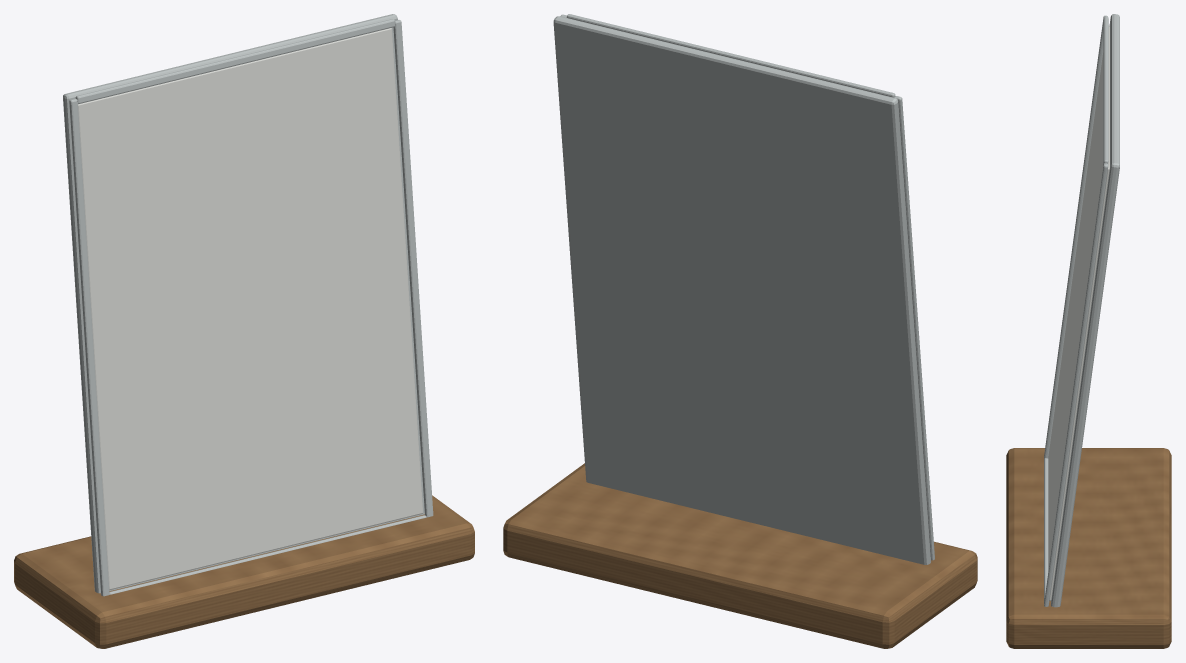
The picture shows the model from 3 angles, left to right: view 1: azimuth 30°, elevation 25°; view 2: azimuth 150°, elevation 25°; view 3: azimuth 270°, elevation 25°; orthographic projection. The views are drawn at different scales.
Parts seen in each view (by area): view 1: REPLACEABLE neutral certificate face, Oak slotted certificate base, Satin metal closed backing; view 2: Satin metal closed backing, Oak slotted certificate base; view 3: Oak slotted certificate base, Satin metal closed backing, REPLACEABLE neutral certificate face.
Boxes of the visible parts, x1,y1,x2,y2 form: REPLACEABLE neutral certificate face: (78,28,422,590); Oak slotted certificate base: (14,495,474,648); Satin metal closed backing: (63,14,433,596); Satin metal closed backing: (553,14,934,564); Oak slotted certificate base: (503,463,977,648); Oak slotted certificate base: (1006,448,1171,648); Satin metal closed backing: (1044,14,1119,607); REPLACEABLE neutral certificate face: (1048,25,1109,600).
Bounding box in the file's own units: 0.26 × 0.3347 × 0.105.
Materials: 3 (1 with a texture image).
